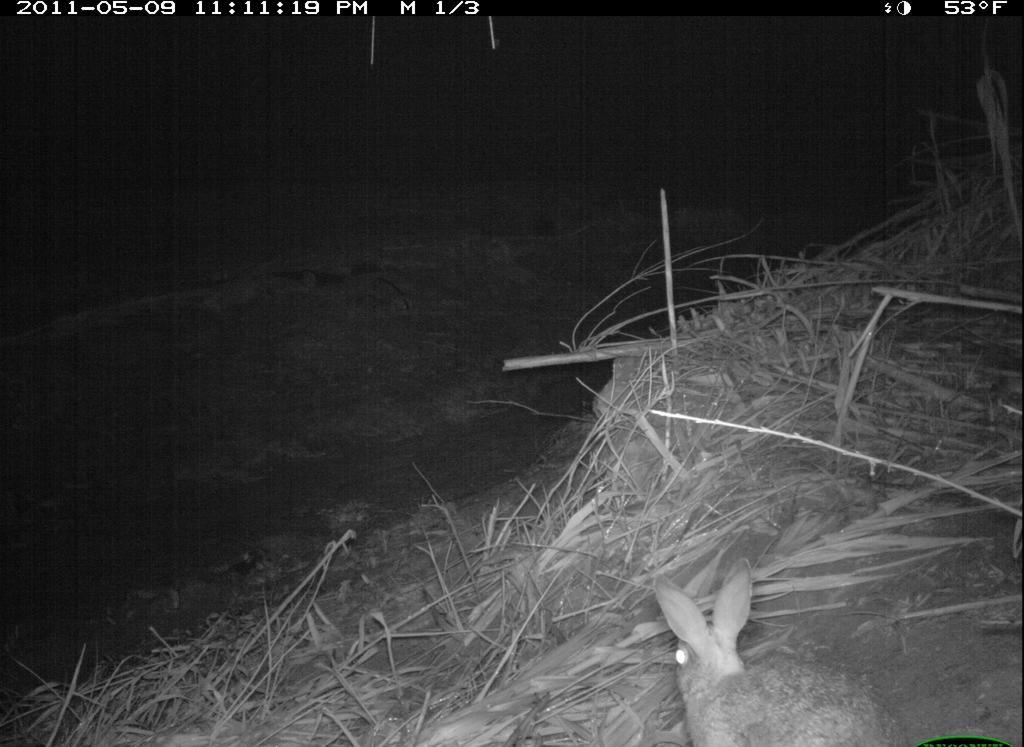rabbit: (639, 555, 921, 747)
